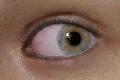eye: (57, 23, 91, 55)
